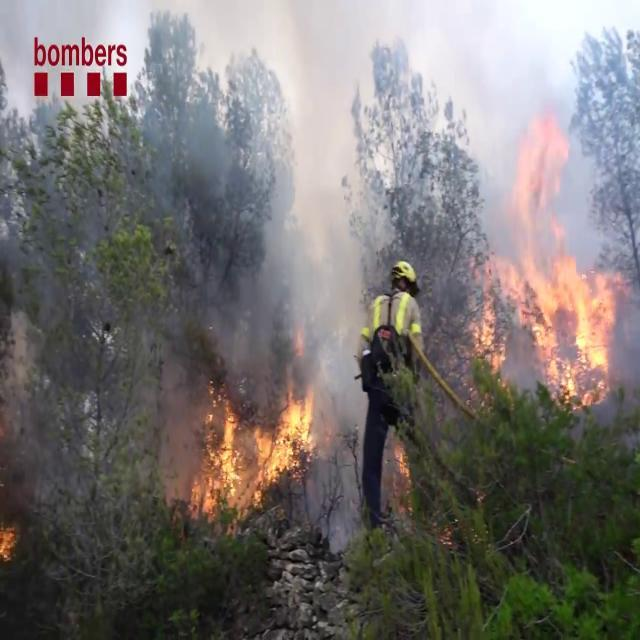Fire: (478, 116, 626, 400), (185, 374, 322, 522)
Smoke: (172, 0, 396, 414)
